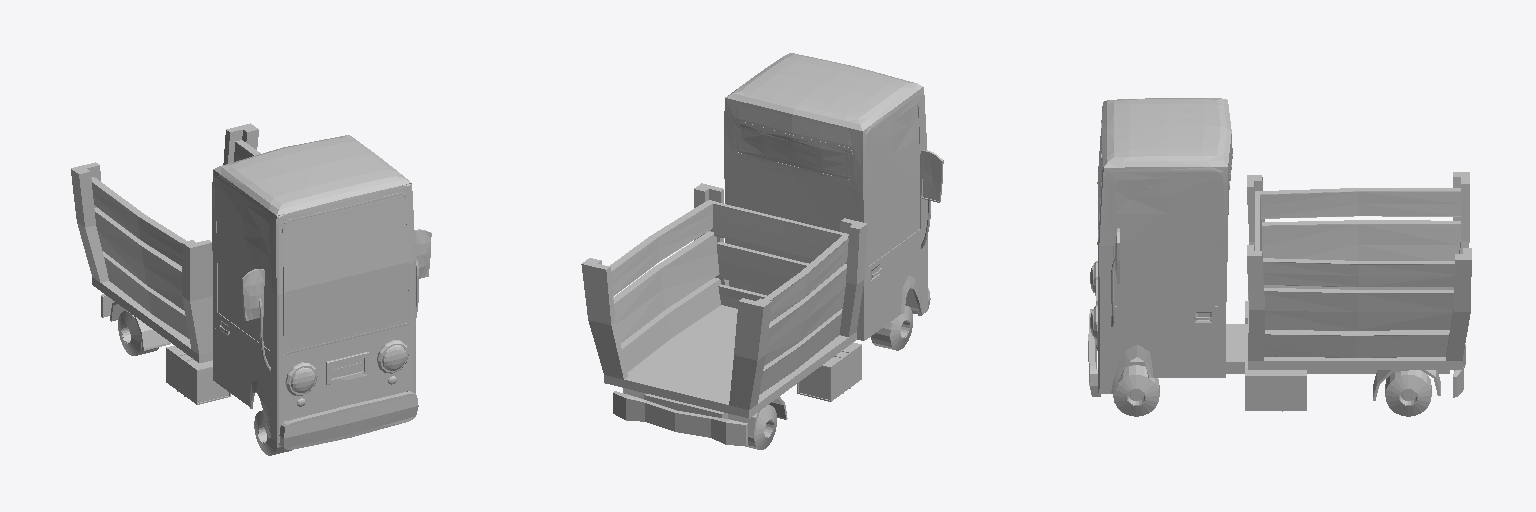
The model's file is MiniTrailer.obj.
The picture shows the model from 3 angles: view 1: azimuth 30°, elevation 25°; view 2: azimuth 150°, elevation 25°; view 3: azimuth 270°, elevation 25°; orthographic projection.
Parts seen in each view (by area): view 1: TRUCK polySurface16, TRUCK Ventanas, TRUCK Caja, TRUCK polySurface58, puertas TRUCK, TRUCK polySurface55, TRUCK Llantas, TRUCK polySurface54, TRUCK polySurface13, TRUCK polySurface47, TRUCK polySurface44, TRUCK polySurface10; view 2: TRUCK Caja, TRUCK polySurface16, TRUCK Ventanas, TRUCK polySurface59, puertas TRUCK, TRUCK polySurface55, TRUCK Llantas, TRUCK polySurface53, TRUCK polySurface12, TRUCK polySurface42, TRUCK polySurface44; view 3: TRUCK Caja, TRUCK polySurface16, TRUCK Ventanas, puertas TRUCK, TRUCK Llantas, TRUCK polySurface56, TRUCK polySurface42, TRUCK polySurface58.
Part boxes in pixels (left/top/right/bottom): TRUCK polySurface16: left=212, top=135, right=415, bottom=442; TRUCK Ventanas: left=217, top=188, right=408, bottom=352; TRUCK Caja: left=71, top=123, right=260, bottom=362; TRUCK polySurface58: left=279, top=391, right=418, bottom=449; puertas TRUCK: left=214, top=178, right=273, bottom=378; TRUCK polySurface55: left=166, top=345, right=230, bottom=404; TRUCK Llantas: left=118, top=311, right=291, bottom=455; TRUCK polySurface54: left=282, top=192, right=410, bottom=354; TRUCK polySurface13: left=242, top=269, right=264, bottom=320; TRUCK polySurface47: left=326, top=352, right=368, bottom=384; TRUCK polySurface44: left=110, top=302, right=170, bottom=350; TRUCK polySurface10: left=415, top=229, right=431, bottom=278; TRUCK Caja: left=581, top=183, right=867, bottom=418; TRUCK polySurface16: left=724, top=53, right=927, bottom=340; TRUCK Ventanas: left=737, top=105, right=919, bottom=265; TRUCK polySurface59: left=613, top=391, right=747, bottom=445; puertas TRUCK: left=866, top=94, right=923, bottom=294; TRUCK polySurface55: left=797, top=342, right=861, bottom=401; TRUCK Llantas: left=745, top=305, right=912, bottom=449; TRUCK polySurface53: left=734, top=121, right=852, bottom=182; TRUCK polySurface12: left=922, top=153, right=940, bottom=200; TRUCK polySurface42: left=644, top=394, right=727, bottom=418; TRUCK polySurface44: left=728, top=397, right=787, bottom=437; TRUCK Caja: left=1247, top=172, right=1471, bottom=369; TRUCK polySurface16: left=1098, top=98, right=1232, bottom=393; TRUCK Ventanas: left=1098, top=140, right=1230, bottom=306; puertas TRUCK: left=1107, top=172, right=1223, bottom=333; TRUCK Llantas: left=1113, top=365, right=1431, bottom=416; TRUCK polySurface56: left=1245, top=359, right=1306, bottom=411; TRUCK polySurface42: left=1126, top=324, right=1449, bottom=373; TRUCK polySurface58: left=1088, top=309, right=1100, bottom=396.
Bounding box in the file's own units: 9.37 × 12.4 × 16.5.